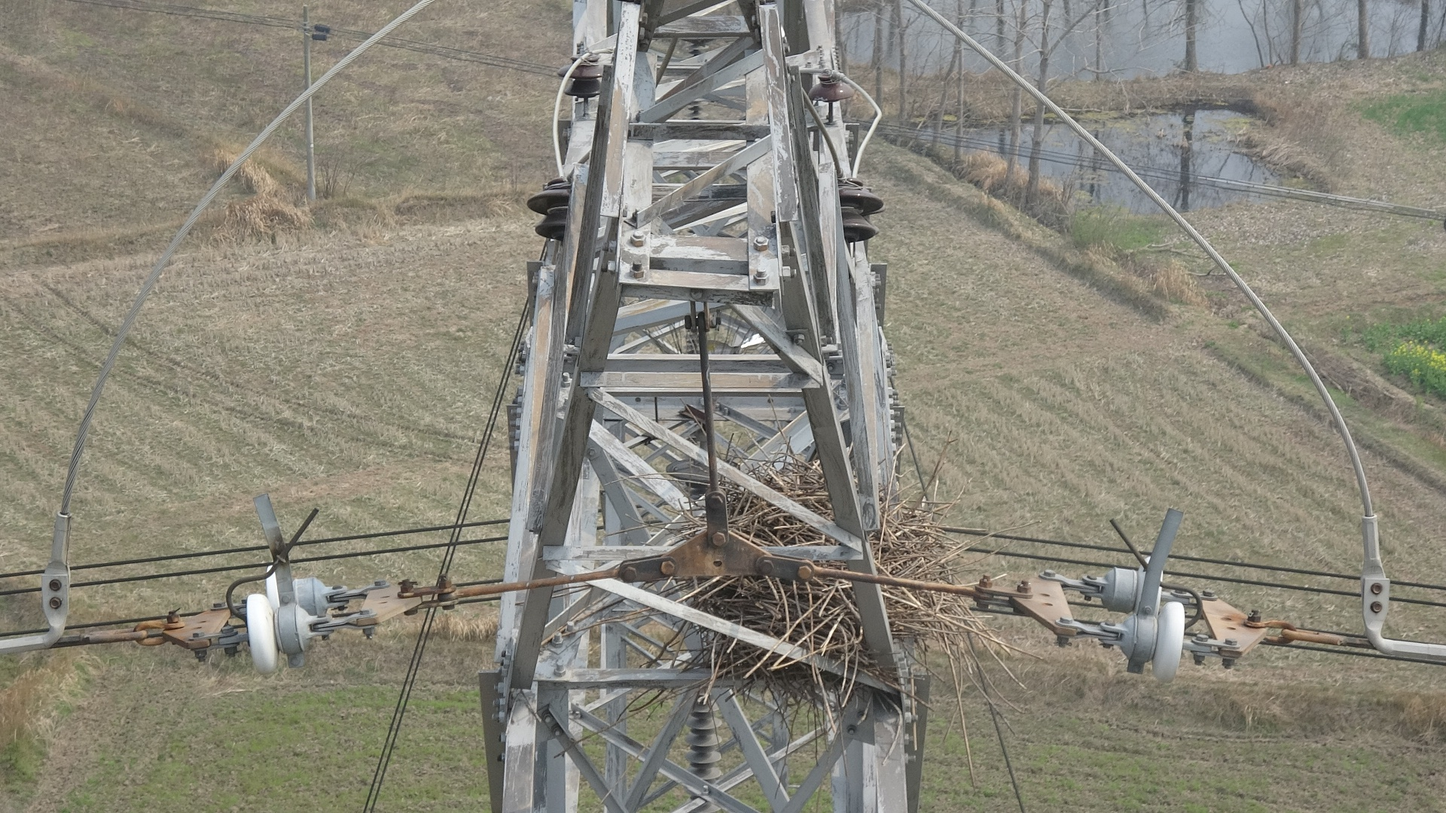insulator: (681, 692, 726, 790)
